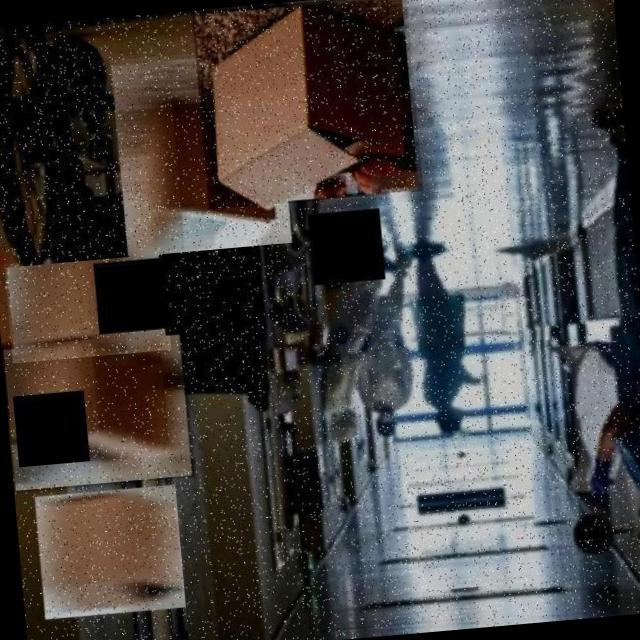box: (191, 0, 422, 209), (109, 45, 295, 260), (1, 331, 194, 492), (34, 480, 186, 620), (4, 250, 171, 362)
